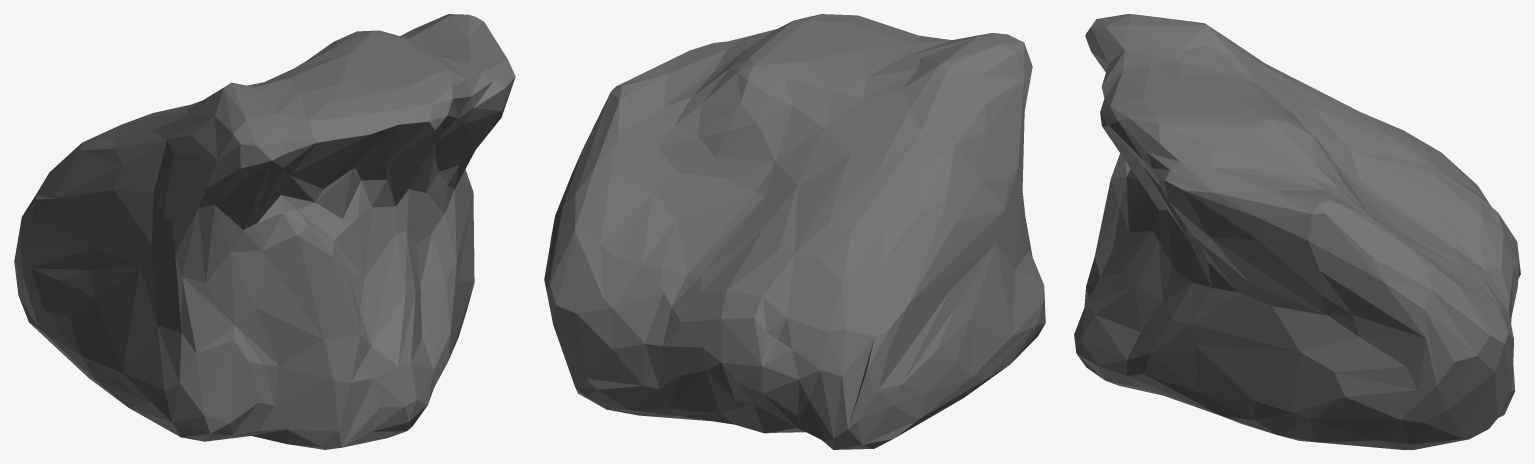
The model's file is SM_Gen_Env_Dirt_Cliff_01.glb.
3 renders of one model, left to right at view 1: azimuth 30°, elevation 25°; view 2: azimuth 150°, elevation 25°; view 3: azimuth 270°, elevation 25°, orthographic. The views are drawn at different scales.
Parts seen in each view (by area): view 1: SM_Gen_Env_Dirt_Cliff_01; view 2: SM_Gen_Env_Dirt_Cliff_01; view 3: SM_Gen_Env_Dirt_Cliff_01.
Boxes of the visible parts, x1=… form: SM_Gen_Env_Dirt_Cliff_01: x1=14, y1=14, x2=515, y2=449; SM_Gen_Env_Dirt_Cliff_01: x1=544, y1=14, x2=1045, y2=449; SM_Gen_Env_Dirt_Cliff_01: x1=1074, y1=14, x2=1520, y2=449.
Size of the model in its own units: 11.58 by 9.15 by 11.88.
Materials: 1 (1 with a texture image).
